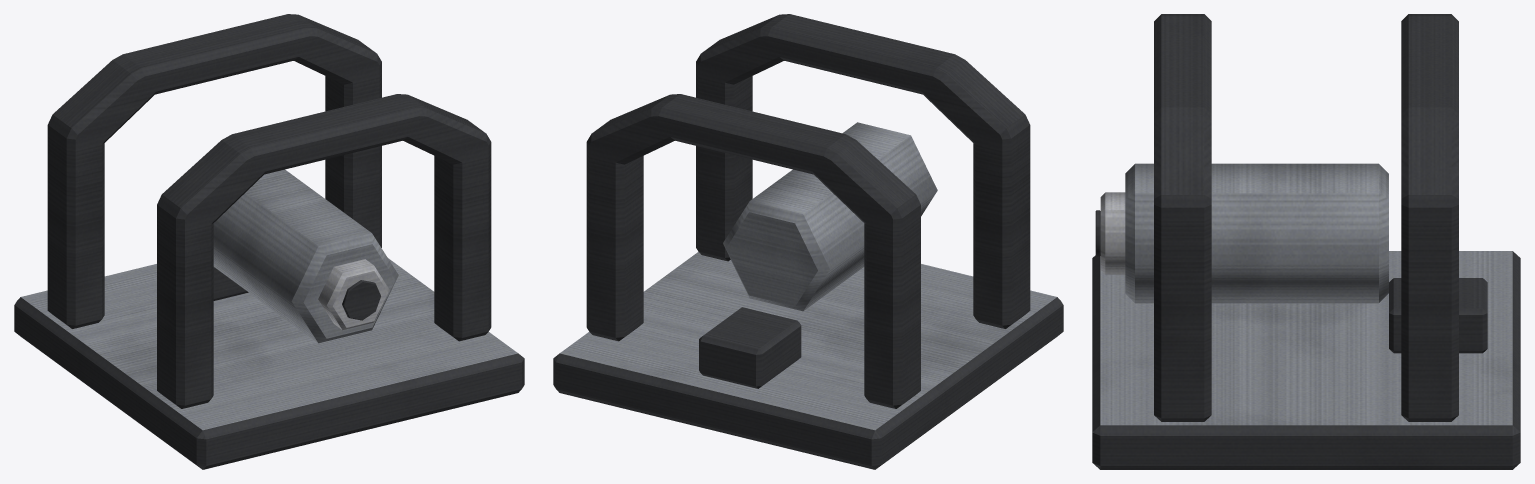
Rendered from R4X_WeaponDurabilityBooster_LOD1.glb.
3 views of the same model, side by side, from view 1: azimuth 30°, elevation 25°; view 2: azimuth 150°, elevation 25°; view 3: azimuth 270°, elevation 25° (orthographic). The views are drawn at different scales.
Parts seen in each view (by area): view 1: R4X_WeaponDurabilityBooster_LOD1; view 2: R4X_WeaponDurabilityBooster_LOD1; view 3: R4X_WeaponDurabilityBooster_LOD1.
Boxes of the visible parts, x1,y1,x2,y2 form: R4X_WeaponDurabilityBooster_LOD1: [14, 14, 524, 469]; R4X_WeaponDurabilityBooster_LOD1: [553, 14, 1063, 469]; R4X_WeaponDurabilityBooster_LOD1: [1092, 14, 1520, 469].
Bounding box in the file's own units: 0.52 × 0.43 × 0.52.
Materials: 4 (3 with a texture image).
